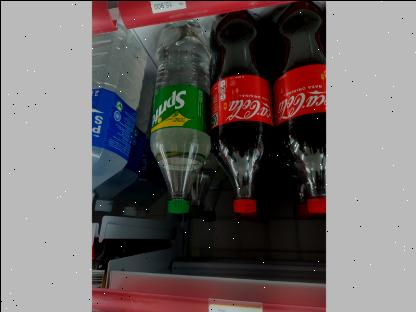Plastic Bottle: (210, 10, 274, 210), (147, 19, 208, 213), (272, 0, 324, 214)
